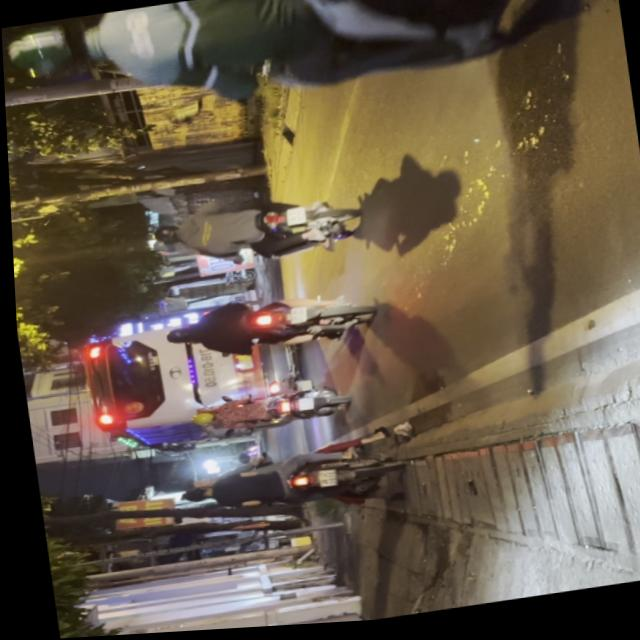helmet: (2, 18, 102, 82), (141, 222, 178, 247), (159, 324, 194, 347)
licenseplate: (0, 0, 587, 138), (165, 433, 401, 529), (136, 184, 362, 278), (153, 284, 374, 368)
motorcyclist: (173, 484, 206, 506)
nohelmet: (311, 470, 333, 491), (281, 208, 303, 227), (285, 308, 304, 326)
